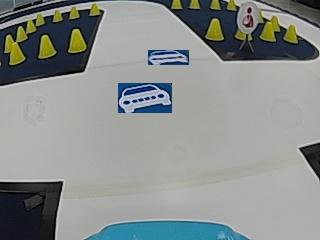cone: (37, 35, 59, 60), (69, 28, 87, 53), (9, 41, 26, 64), (207, 18, 224, 41), (262, 23, 277, 42), (285, 23, 298, 42), (34, 12, 47, 25), (69, 7, 81, 21), (169, 0, 182, 12), (88, 3, 99, 17), (208, 1, 223, 11), (17, 27, 29, 39), (51, 11, 64, 22), (27, 19, 37, 32), (189, 1, 202, 11), (226, 1, 237, 10)
patient: (239, 3, 258, 31)
